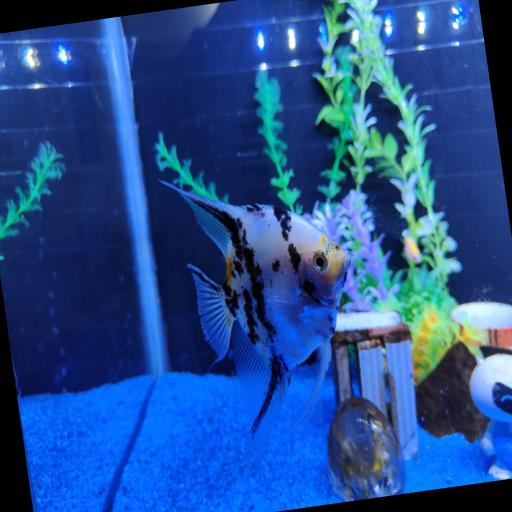Fish: (163, 182, 350, 463), (404, 236, 422, 263)
